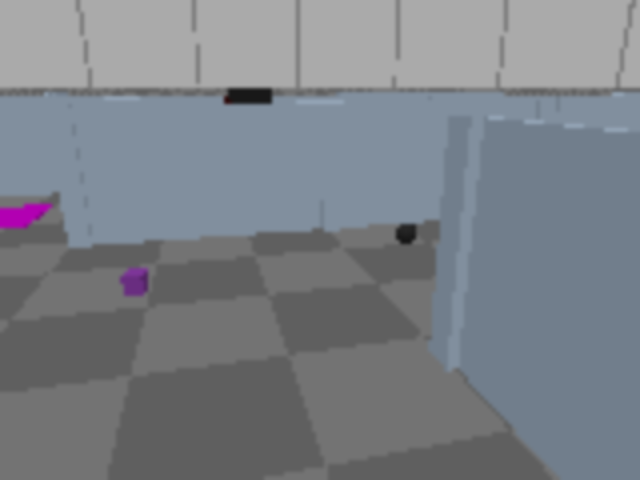goal_zone: (0, 204, 54, 234)
puck: (392, 219, 421, 247), (121, 269, 150, 296)
